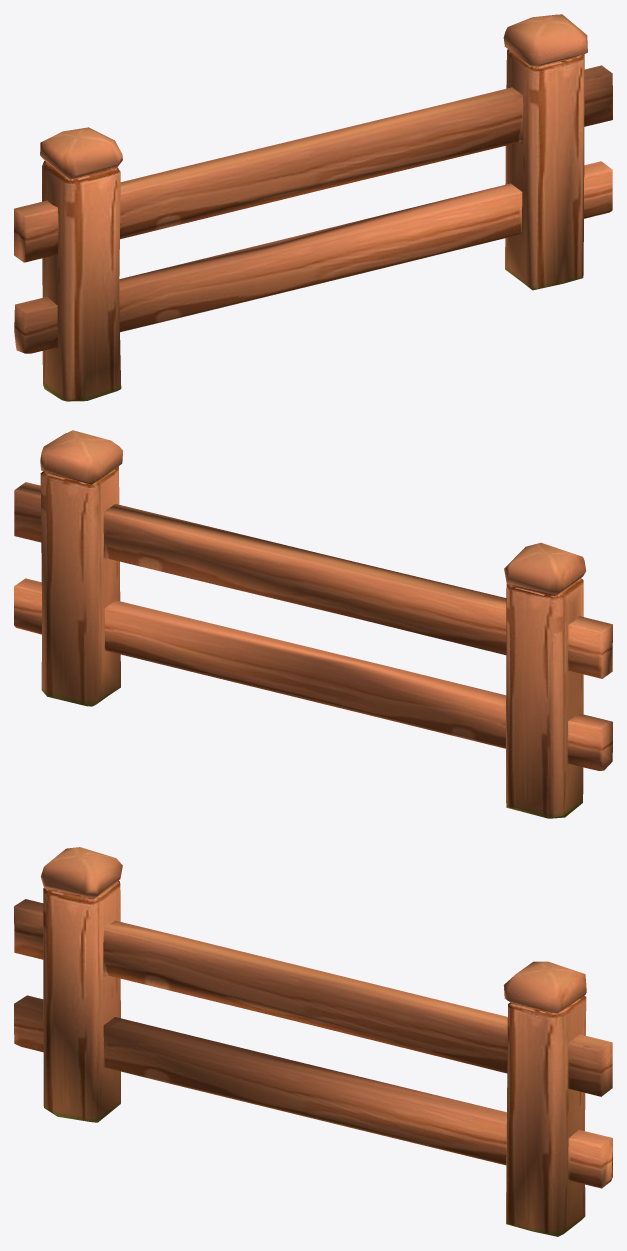
File: fence_rail_1.glb
The picture shows the model from 3 angles, top to bottom: view 1: azimuth 30°, elevation 25°; view 2: azimuth 150°, elevation 25°; view 3: azimuth 330°, elevation 25°; orthographic projection.
Parts seen in each view (by area): view 1: ЦІЛЬ; view 2: ЦІЛЬ; view 3: ЦІЛЬ.
Part boxes in pixels (x1,y1,x2,y2): ЦІЛЬ: (14, 14, 612, 401); ЦІЛЬ: (14, 430, 612, 818); ЦІЛЬ: (14, 847, 612, 1236).
Size of the model in its own units: 0.9999 by 0.413 by 0.0986.
1 material, 1 textured.
